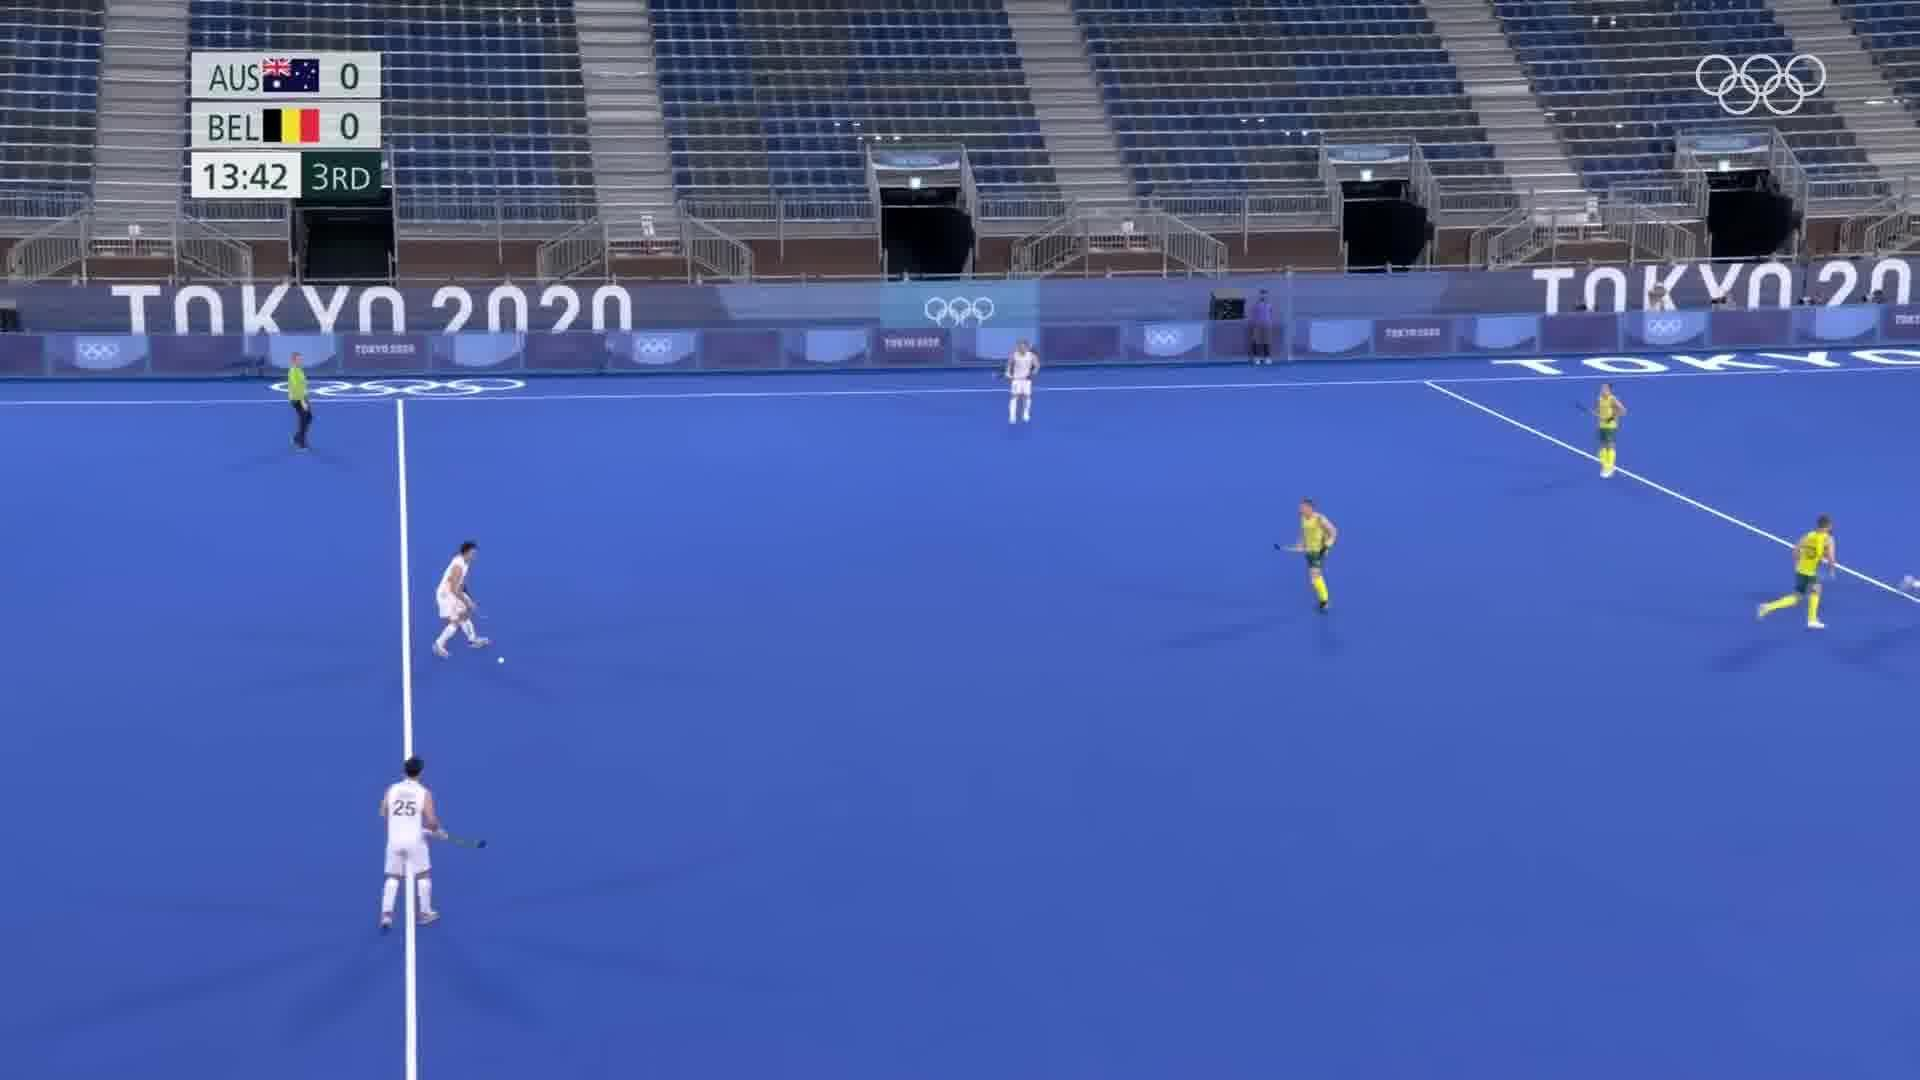ball: (495, 653, 510, 669)
